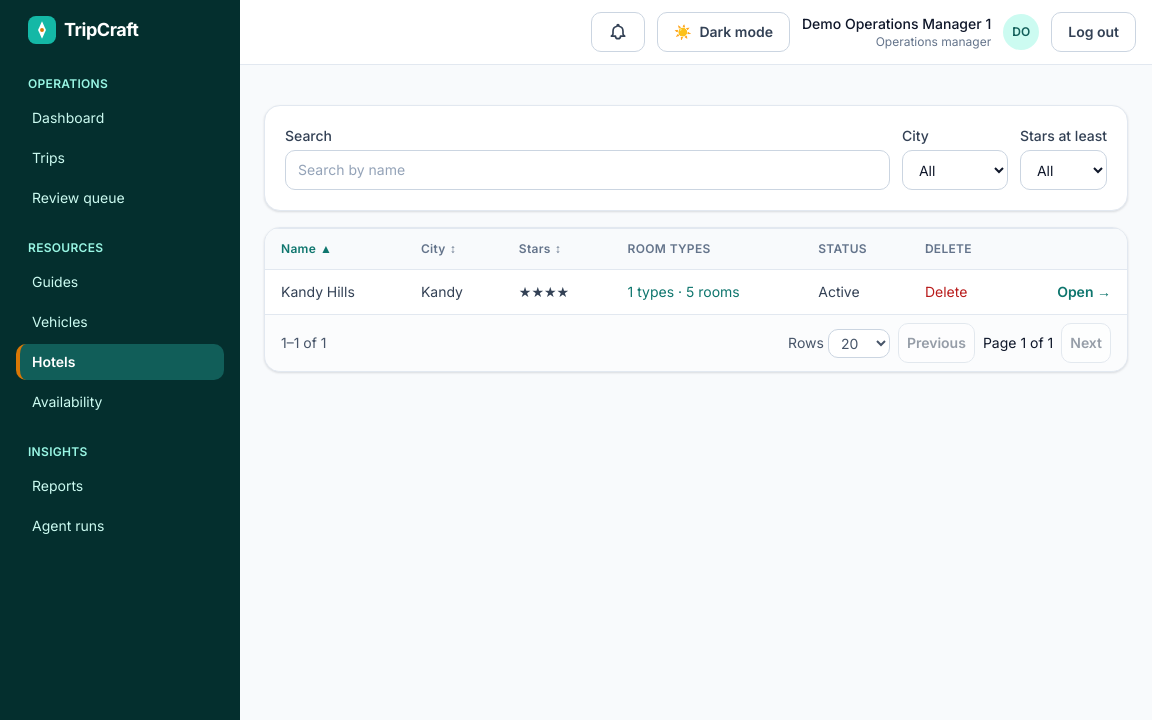
Scenario: Vehicles and hotels › shows a hotel's room types in its details and opens the edit form from there
The width and height of the screenshot is (1152, 720).
Click the button with aria-label "Details of Kandy Hills": (684,292) [628,282,740,302]
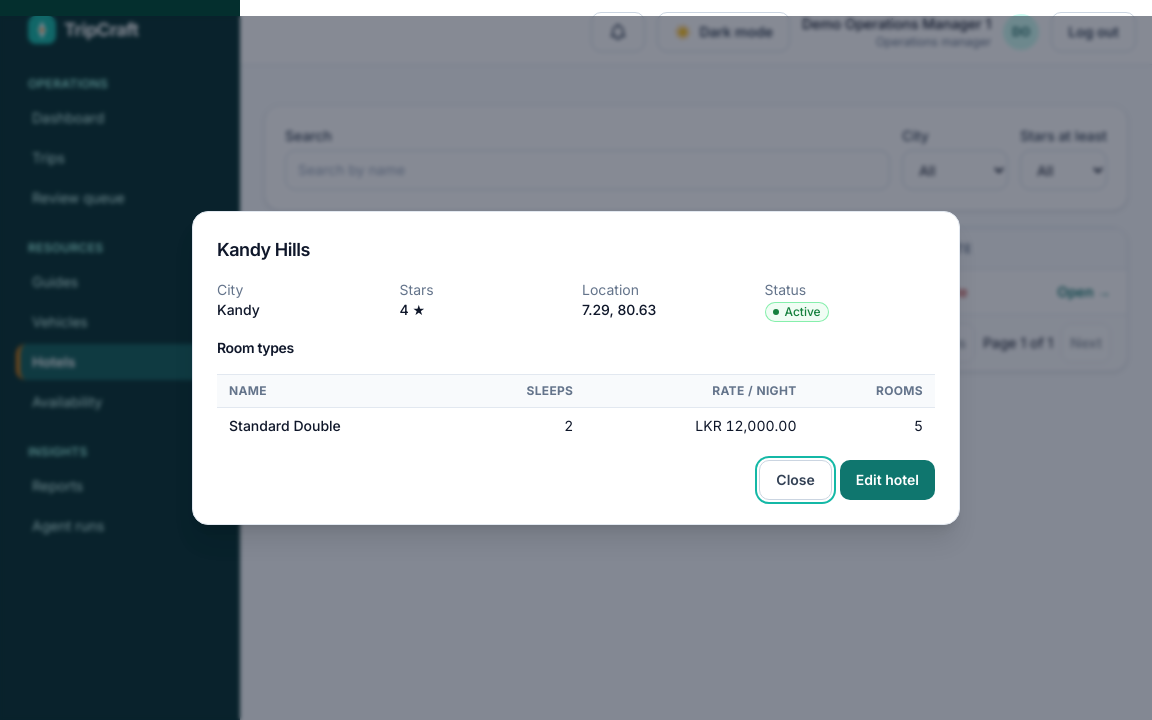
Now the column heading "Standard Double" is shown, box [217,408,459,444]
Now the table named "Room types" shows "LKR 12,000.00", box [695,417,796,434]
Click the button "Edit hotel": (887,480) [840,460,935,500]
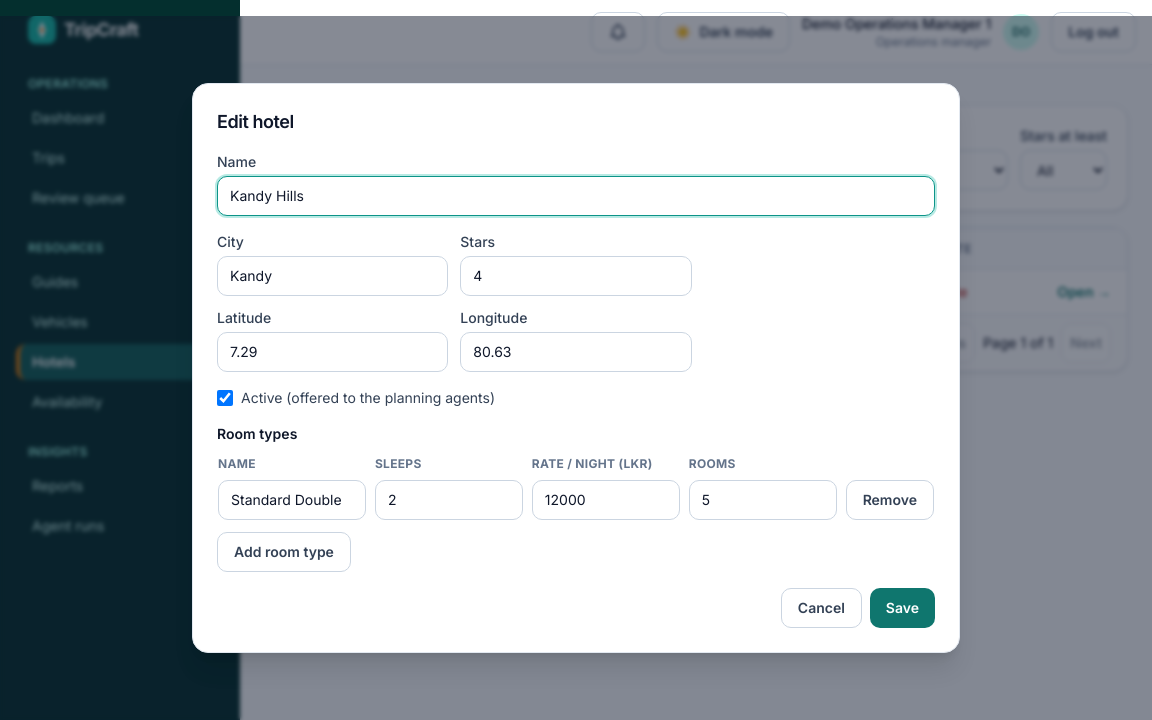
Now the field named "Room type 1 name" holds "Standard Double", box [218,480,366,520]
